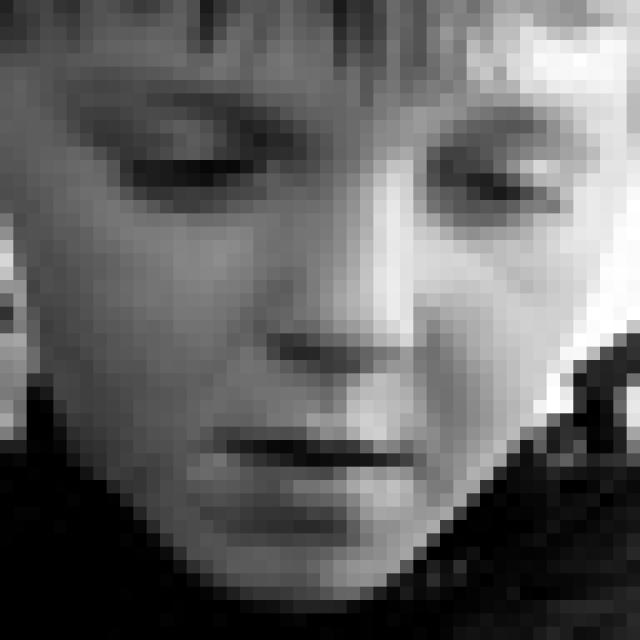sad: (72, 76, 597, 544)
